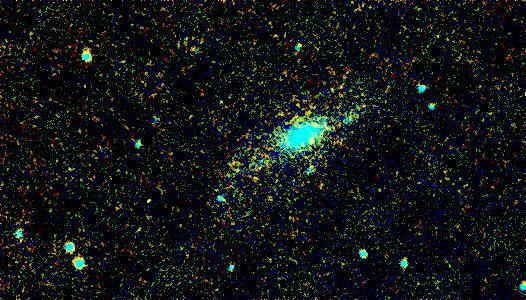star: (178, 31, 208, 61)
